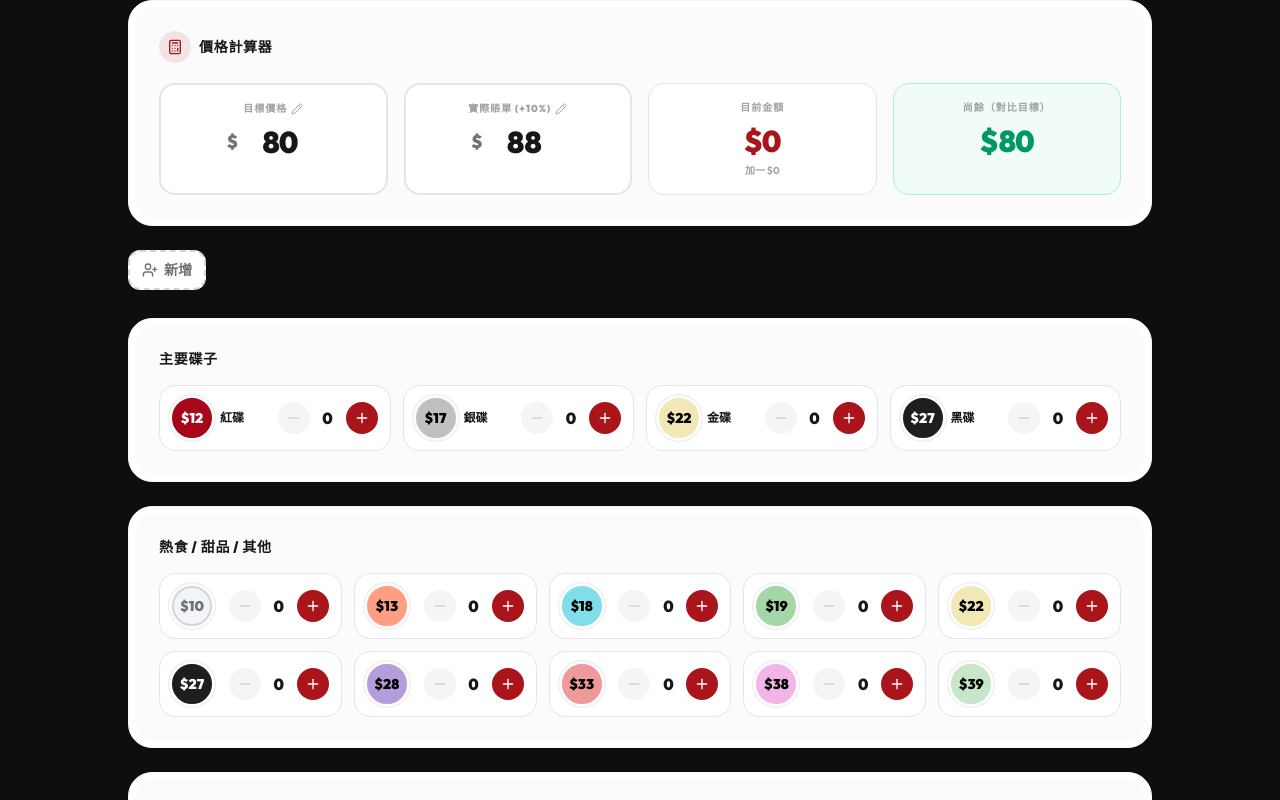
Test: FareCalculator › shows over-budget warning when exceeding target
The image size is (1280, 800).
Step 1. Replace the text in the number field showing "80" with "5" → (280, 142), box [240,124,320,160]
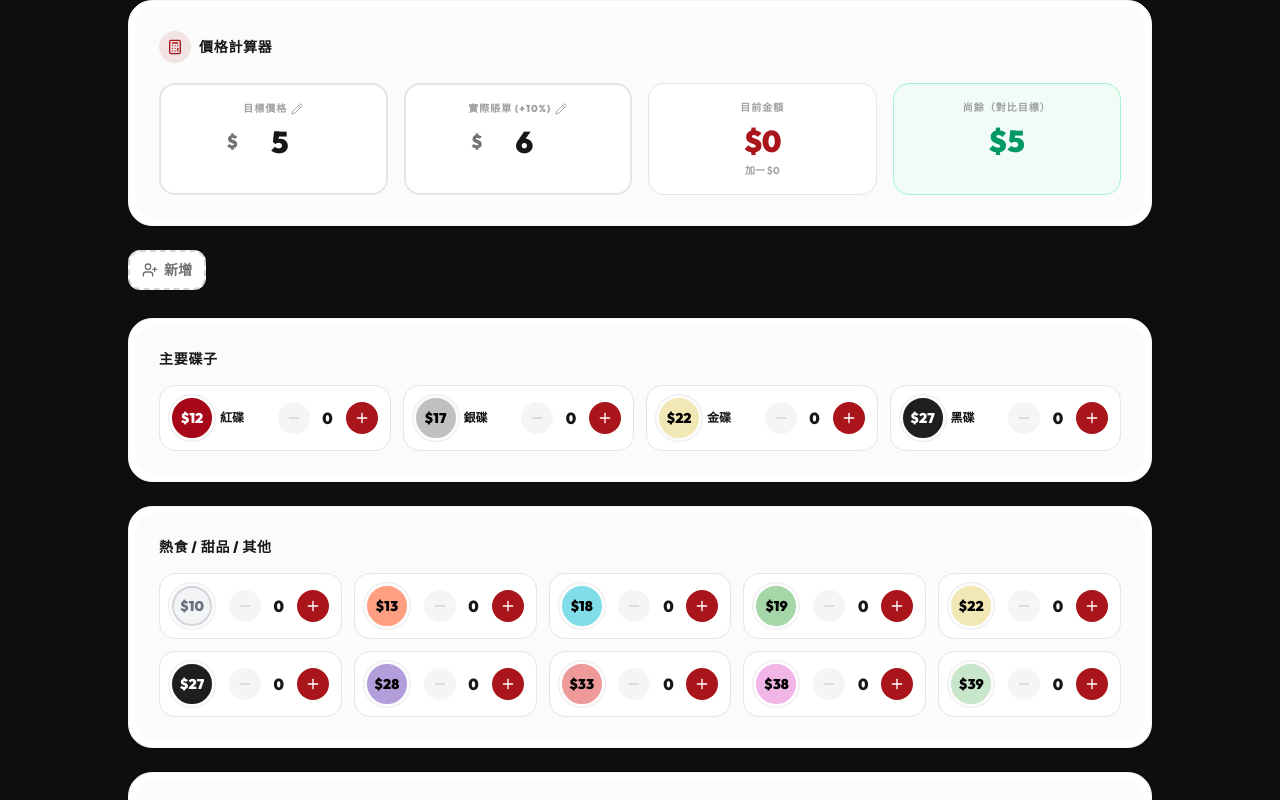
Step 2. Click the button named "增加 12 數量" → (362, 418), box [346,402,378,434]
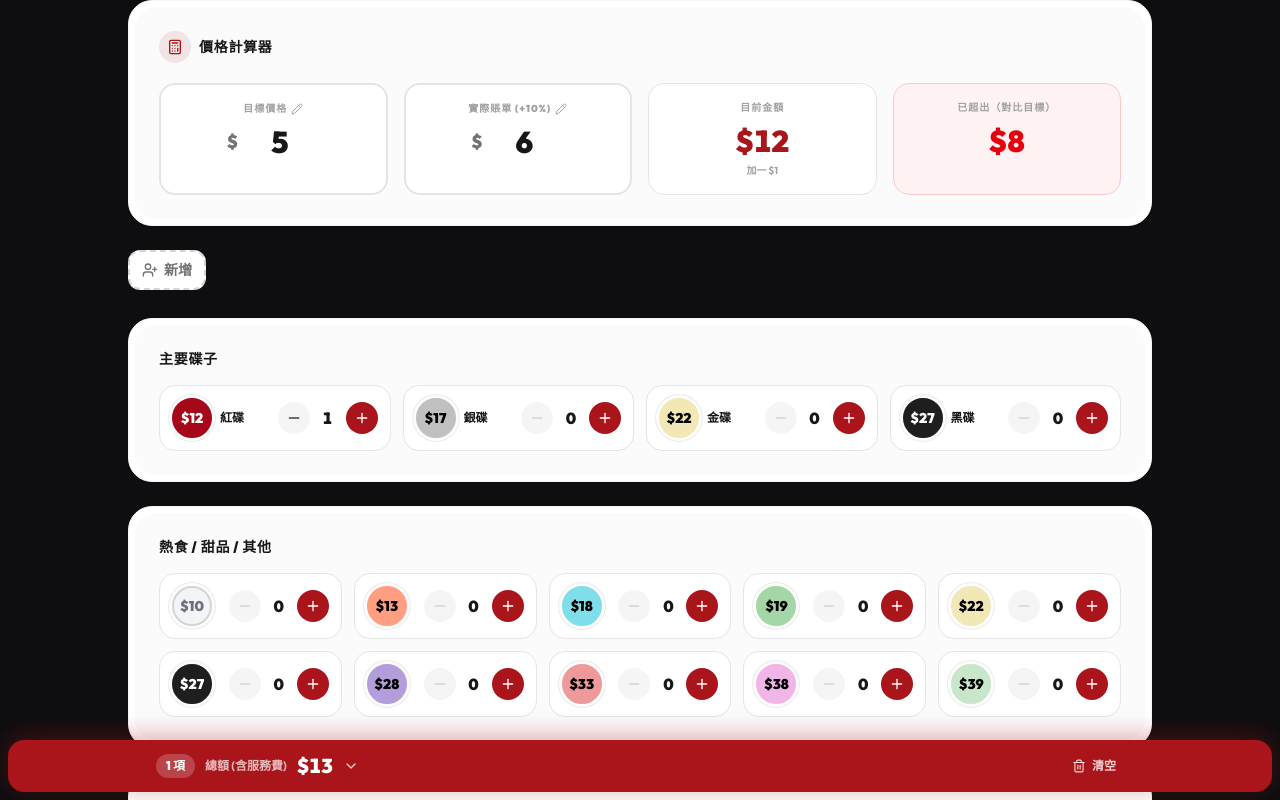
Expected: the text "已超出（對比目標）" is shown, [957,101,1056,114]
